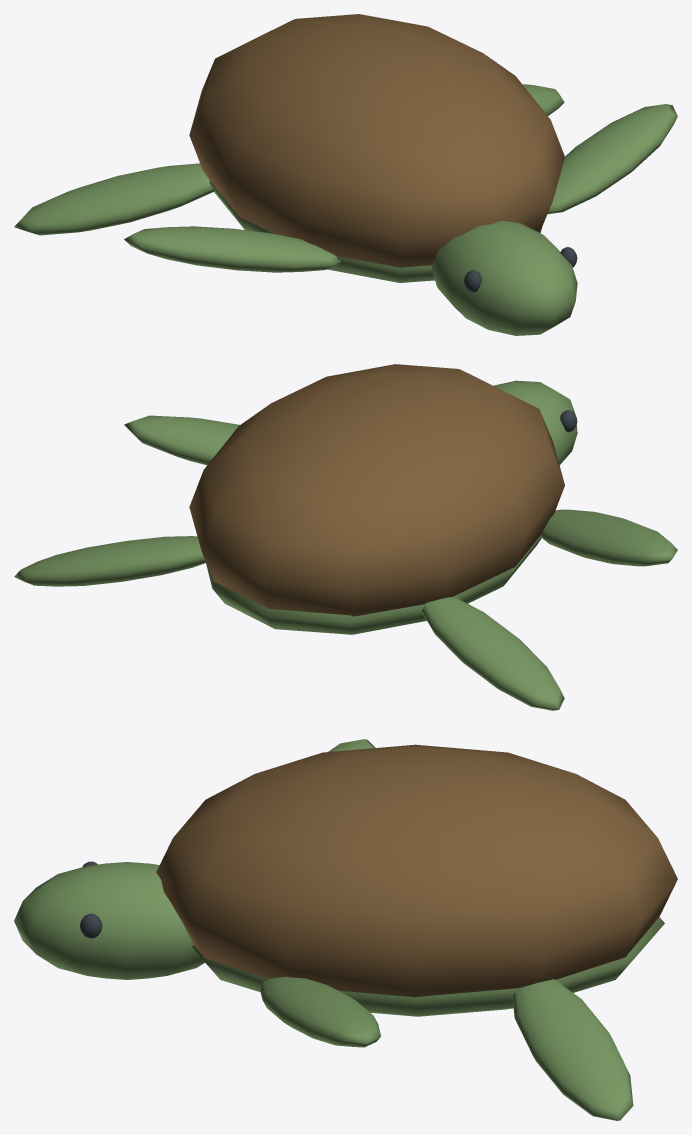
Rendered from sea-turtle.glb.
3 renders of one model, top to bottom at view 1: azimuth 30°, elevation 25°; view 2: azimuth 150°, elevation 25°; view 3: azimuth 270°, elevation 25°, orthographic. The views are drawn at different scales.
Visible parts, largest first — view 1: Carapace, Head.001, Flipper blade.001, Flipper blade, Flipper blade.002, Belly, Flipper blade.003; view 2: Carapace, Flipper blade.001, Flipper blade.003, Flipper blade, Belly, Flipper blade.002, Head.001; view 3: Carapace, Head.001, Flipper blade.003, Belly, Flipper blade.002.
Part boxes in pixels (bbox=[...]): Carapace: bbox=[189, 14, 564, 267]; Head.001: bbox=[432, 220, 577, 335]; Flipper blade.001: bbox=[14, 163, 214, 235]; Flipper blade: bbox=[124, 226, 340, 272]; Flipper blade.002: bbox=[547, 104, 677, 214]; Belly: bbox=[209, 181, 542, 282]; Flipper blade.003: bbox=[522, 84, 564, 115]; Carapace: bbox=[189, 364, 564, 616]; Flipper blade.001: bbox=[422, 596, 564, 710]; Flipper blade.003: bbox=[14, 536, 205, 586]; Flipper blade: bbox=[541, 509, 677, 566]; Belly: bbox=[205, 535, 541, 634]; Flipper blade.002: bbox=[124, 415, 239, 465]; Head.001: bbox=[493, 380, 577, 464]; Carapace: bbox=[156, 744, 677, 997]; Head.001: bbox=[14, 862, 204, 979]; Flipper blade.003: bbox=[512, 979, 633, 1120]; Belly: bbox=[192, 917, 664, 1016]; Flipper blade.002: bbox=[259, 976, 380, 1047].
Size of the model in its own units: 1.39 by 0.46 by 1.29.
